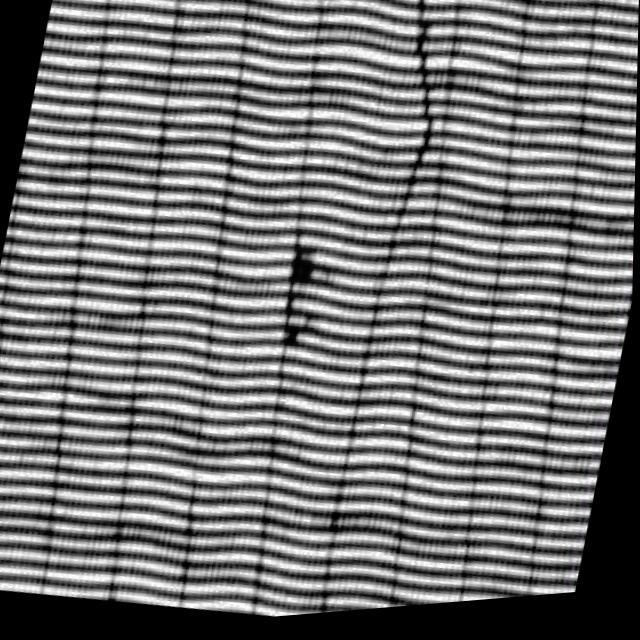Stitch: (325, 0, 495, 293)
